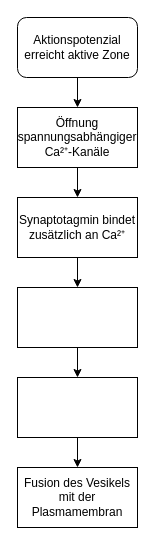
Some shapes in this 155 by 545 pixel diagram are drawn without their labels. Each missing label, with the centre of its shape:
Konformations-änderung des SNARE-Komplex: the point at 77,317
SNAREs "umschlingen" sich: the point at 77,407
